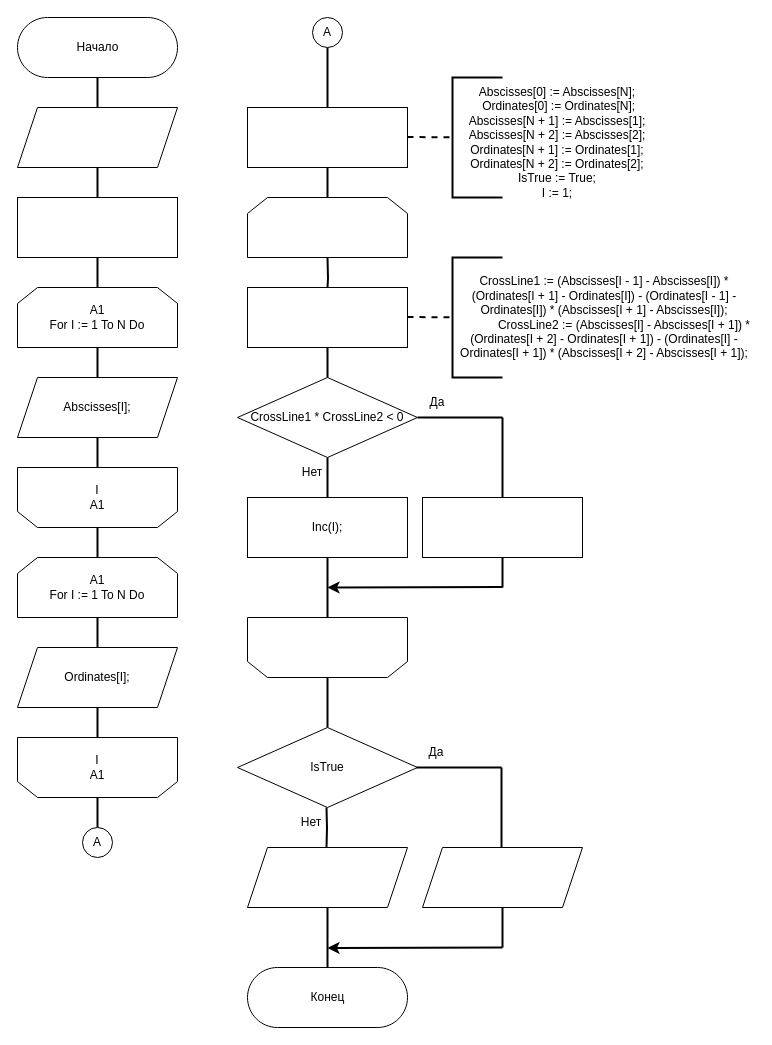
The diagram is 772 pixels wide and 1045 high, and some of its shapes have lost their labels. The shapes that lost their labels are listed below. From the top down, each one's box as (x1, y1, x2, y2) in pixels, then its label:
(16, 106, 178, 168): Введите число сторон у многоугольника — N
(16, 196, 178, 258): SetLength(Abscisses, N + 3); SetLength(Ordinates, N + 3);
(246, 196, 408, 258): A1 (I <= N) and (IsTrue)
(422, 496, 582, 558): IsTrue := False;
(246, 616, 408, 678): A1
(246, 846, 408, 908): Не выпуклый
(422, 846, 582, 908): Выпуклый
